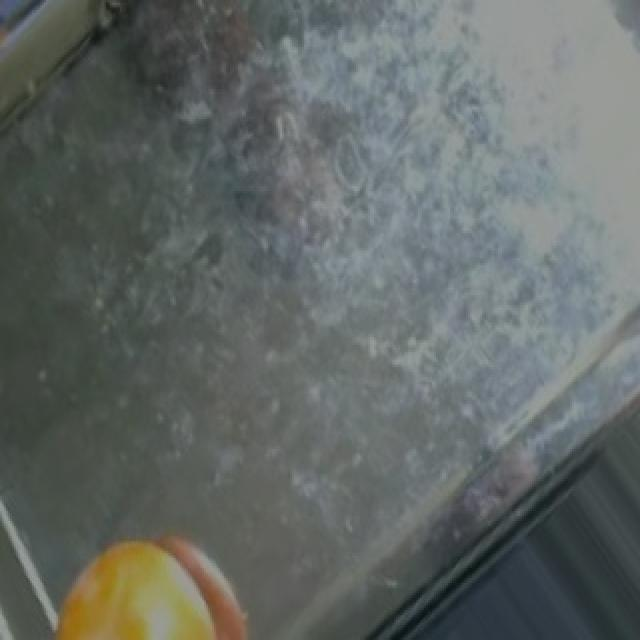Fruit: (30, 513, 260, 640)
